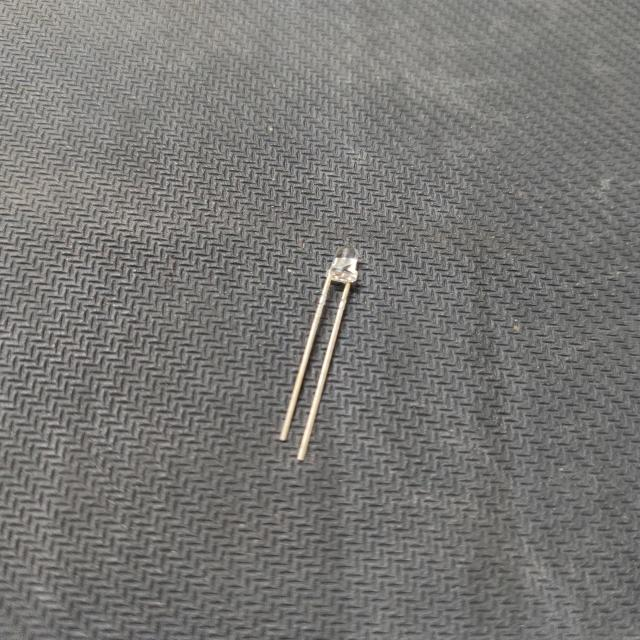led: (278, 246, 359, 462)
